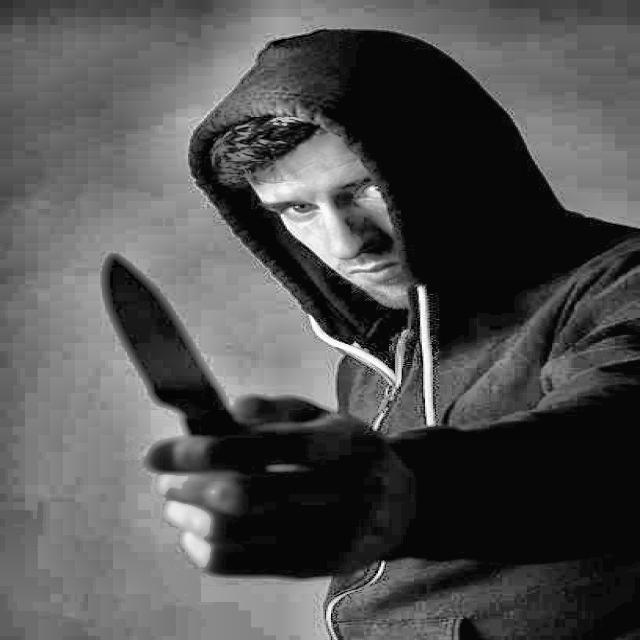pisau: (85, 248, 272, 485)
